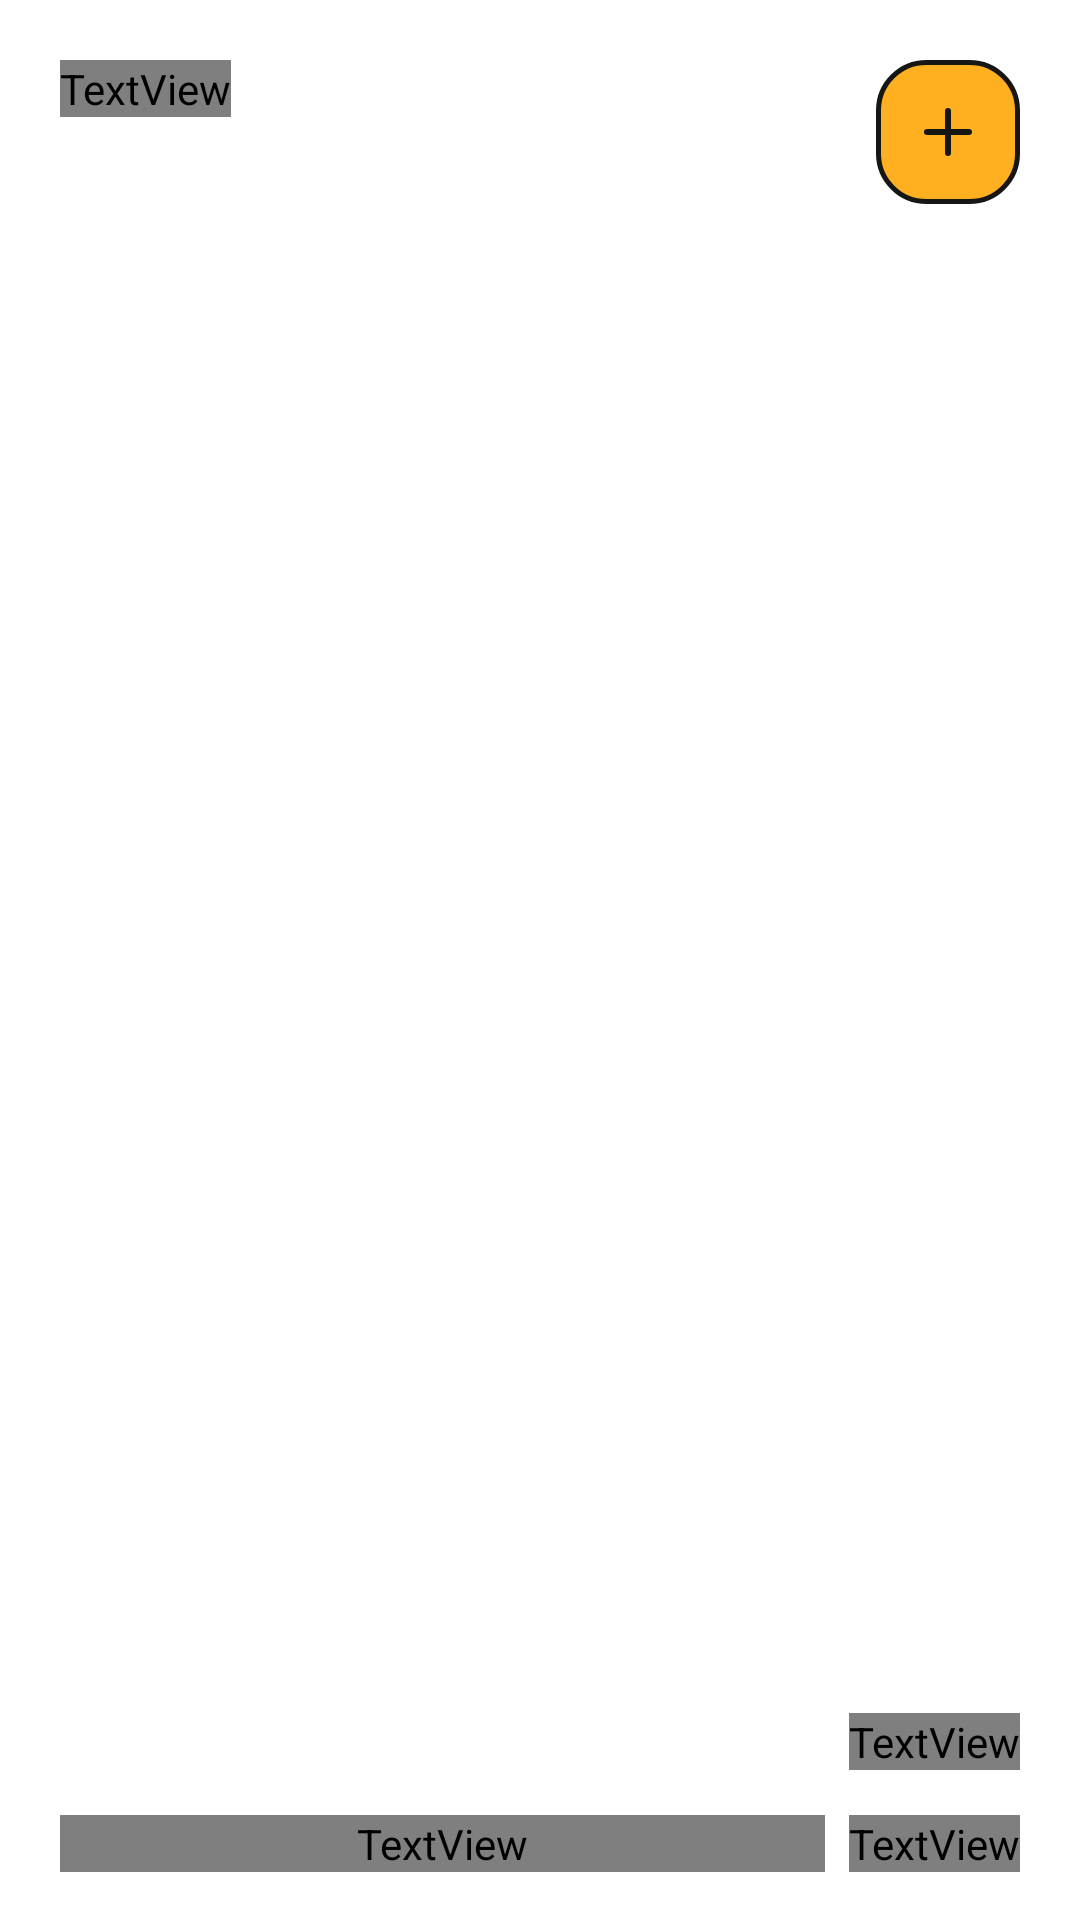

Named icons in this screenshot (1080px x 1920px) and their centers, [x,y]:
widget add: [948,132]
